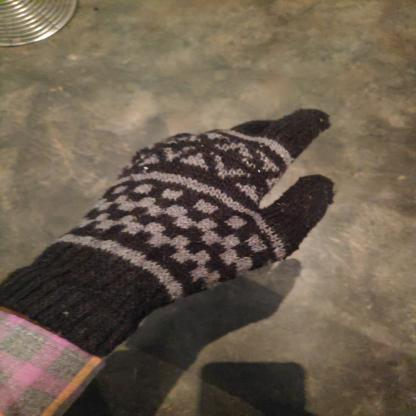gloved_hand: (1, 104, 338, 359)
